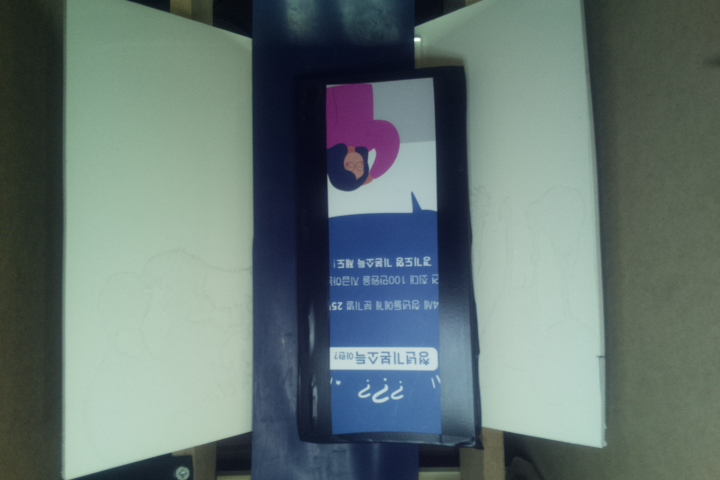book: (298, 63, 470, 448)
